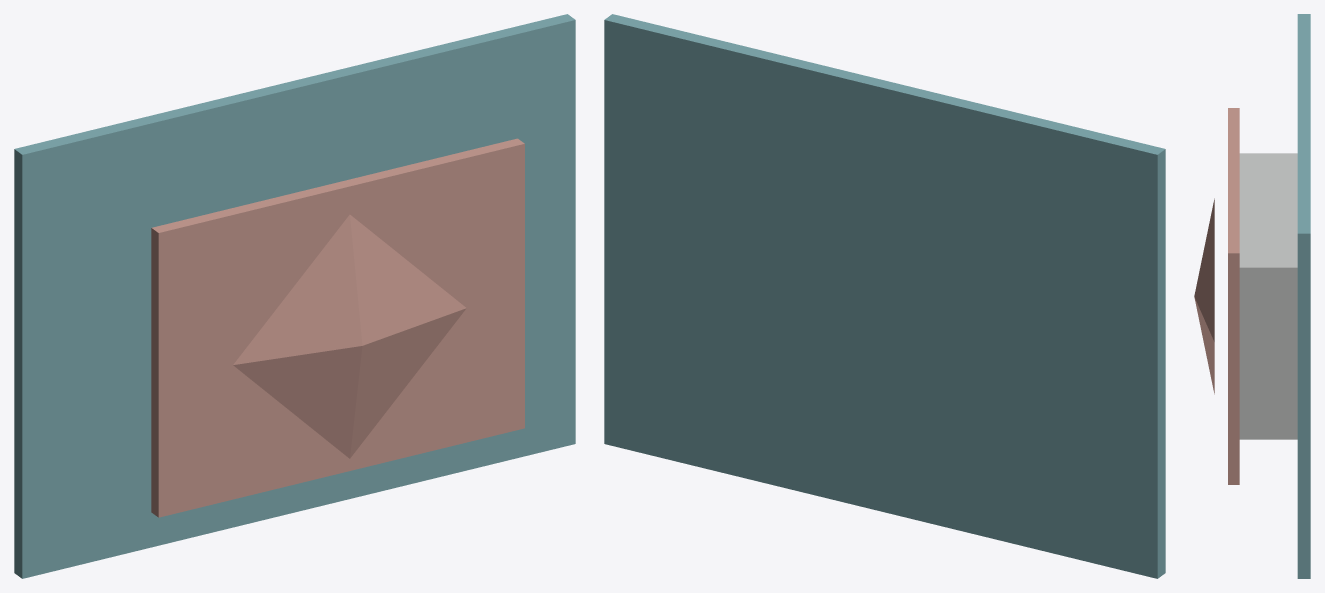
3 views of the same model, side by side, from view 1: azimuth 30°, elevation 25°; view 2: azimuth 150°, elevation 25°; view 3: azimuth 270°, elevation 25° (orthographic). The views are drawn at different scales.
Visible parts, largest first — view 1: section_00, section_02, section_03; view 2: section_00; view 3: section_01, section_00, section_02, section_03.
Part boxes in pixels (left/top/right/bottom): section_00: left=14, top=14, right=575, bottom=578; section_02: left=151, top=138, right=524, bottom=517; section_03: left=233, top=214, right=466, bottom=458; section_00: left=604, top=14, right=1165, bottom=578; section_01: left=1239, top=153, right=1297, bottom=439; section_00: left=1297, top=14, right=1310, bottom=578; section_02: left=1228, top=108, right=1239, bottom=484; section_03: left=1194, top=198, right=1214, bottom=394.
Size of the model in its own units: 7.1 by 5.2 by 1.59.
